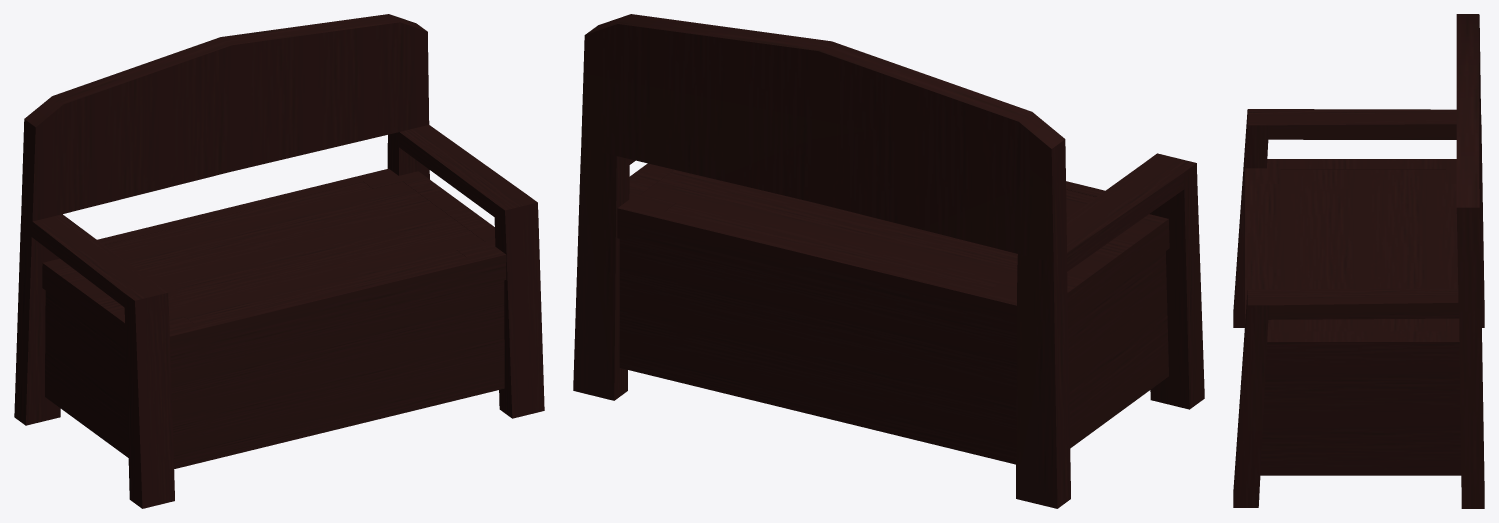
File: Deacon_Bench_D.FBX
The picture shows the model from 3 angles, left to right: view 1: azimuth 30°, elevation 25°; view 2: azimuth 150°, elevation 25°; view 3: azimuth 270°, elevation 25°; orthographic projection. The views are drawn at different scales.
Parts seen in each view (by area): view 1: Deacon_Bench, Lid; view 2: Deacon_Bench, Lid; view 3: Deacon_Bench, Lid.
Part boxes in pixels (left/top/right/bottom): Deacon_Bench: left=14, top=14, right=544, bottom=508; Lid: left=104, top=182, right=485, bottom=323; Deacon_Bench: left=573, top=14, right=1204, bottom=508; Lid: left=641, top=169, right=1096, bottom=290; Deacon_Bench: left=1233, top=14, right=1484, bottom=508; Lid: left=1259, top=169, right=1458, bottom=331.
Size of the model in its own units: 248 by 194 by 133.
